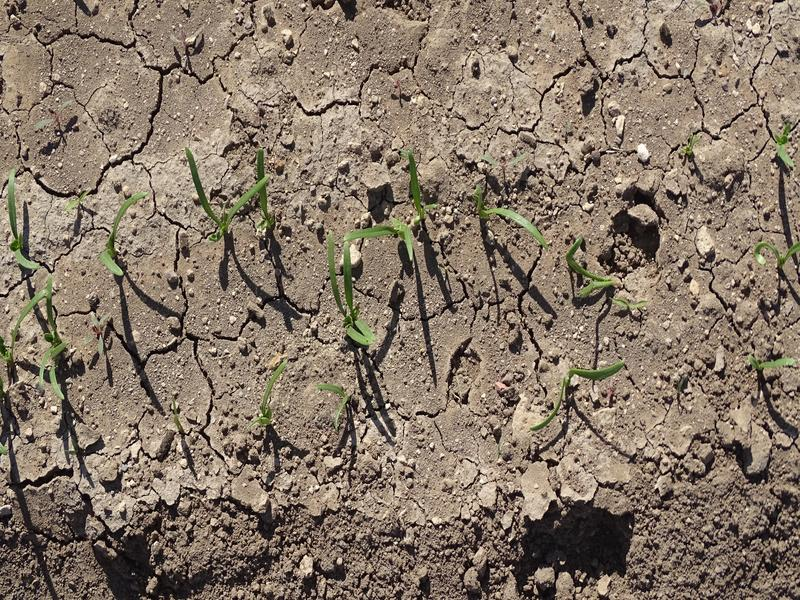Espinaca: (314, 222, 416, 343), (183, 144, 281, 241), (533, 357, 631, 433), (4, 278, 61, 396), (463, 191, 547, 247), (97, 185, 147, 277), (566, 239, 626, 303), (7, 170, 45, 271), (254, 357, 292, 429), (316, 378, 357, 425), (407, 154, 438, 213), (750, 352, 795, 376)
